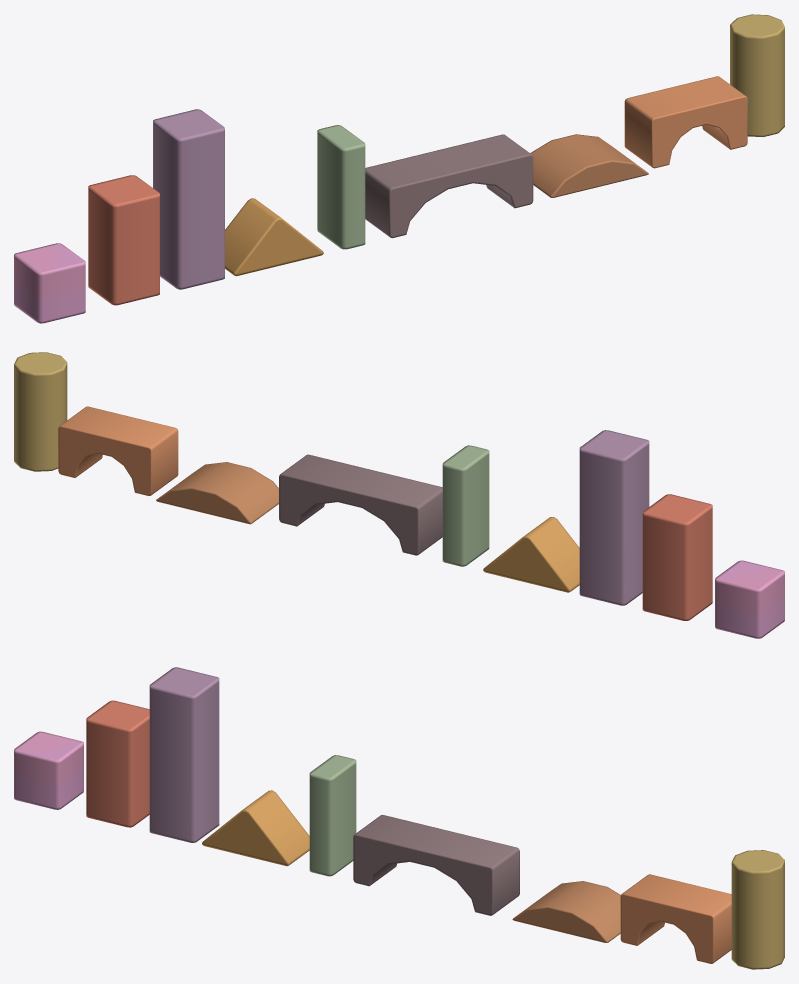
Rendered from gyerek_items_2.FBX.
The picture shows the model from 3 angles, top to bottom: view 1: azimuth 30°, elevation 25°; view 2: azimuth 150°, elevation 25°; view 3: azimuth 330°, elevation 25°; orthographic projection. The views are drawn at different scales.
Visible parts, largest first — view 1: wooden_block_1x3_01, wooden_block_bridge_3x1_01, wooden_block_1x2_01, wooden_block_bridge_2_1_01, wooden_block_cyl_01, wooden_block_05x2_01, wooden_block_1x1_01, wooden_block_ize_01, wooden_block_tri_01; view 2: wooden_block_1x3_01, wooden_block_bridge_3x1_01, wooden_block_1x2_01, wooden_block_bridge_2_1_01, wooden_block_cyl_01, wooden_block_05x2_01, wooden_block_ize_01, wooden_block_1x1_01, wooden_block_tri_01; view 3: wooden_block_1x3_01, wooden_block_bridge_3x1_01, wooden_block_1x2_01, wooden_block_bridge_2_1_01, wooden_block_cyl_01, wooden_block_05x2_01, wooden_block_tri_01, wooden_block_1x1_01, wooden_block_ize_01.
Boxes of the visible parts, box(x1,y1,x2,y2) form: wooden_block_1x3_01: box(153, 109, 224, 289); wooden_block_bridge_3x1_01: box(365, 134, 533, 238); wooden_block_1x2_01: box(88, 175, 159, 305); wooden_block_bridge_2_1_01: box(624, 76, 747, 168); wooden_block_cyl_01: box(730, 14, 784, 136); wooden_block_05x2_01: box(317, 125, 365, 249); wooden_block_1x1_01: box(14, 243, 85, 323); wooden_block_ize_01: box(530, 134, 648, 197); wooden_block_tri_01: box(225, 198, 323, 276); wooden_block_1x3_01: box(579, 430, 649, 605); wooden_block_bridge_3x1_01: box(279, 454, 442, 555); wooden_block_1x2_01: box(642, 494, 712, 620); wooden_block_bridge_2_1_01: box(58, 406, 178, 495); wooden_block_cyl_01: box(14, 352, 67, 471); wooden_block_05x2_01: box(442, 445, 489, 566); wooden_block_ize_01: box(156, 462, 278, 524); wooden_block_1x1_01: box(715, 560, 784, 638); wooden_block_tri_01: box(483, 517, 579, 592); wooden_block_1x3_01: box(149, 667, 219, 842); wooden_block_bridge_3x1_01: box(353, 815, 519, 915); wooden_block_1x2_01: box(86, 700, 149, 827); wooden_block_bridge_2_1_01: box(620, 874, 731, 963); wooden_block_cyl_01: box(731, 850, 784, 969); wooden_block_05x2_01: box(309, 755, 356, 876); wooden_block_tri_01: box(202, 790, 309, 866); wooden_block_1x1_01: box(14, 731, 83, 809); wooden_block_ize_01: box(512, 881, 620, 942).
Bounding box in the file's own units: 3144 × 265 × 588.
1 material, 1 textured.
